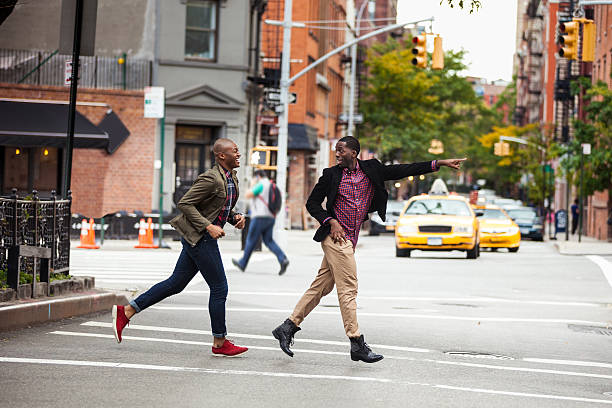otomobil: (386, 188, 482, 256), (478, 205, 523, 246)
yaya: (274, 140, 408, 372), (115, 134, 241, 368), (226, 153, 282, 271)
